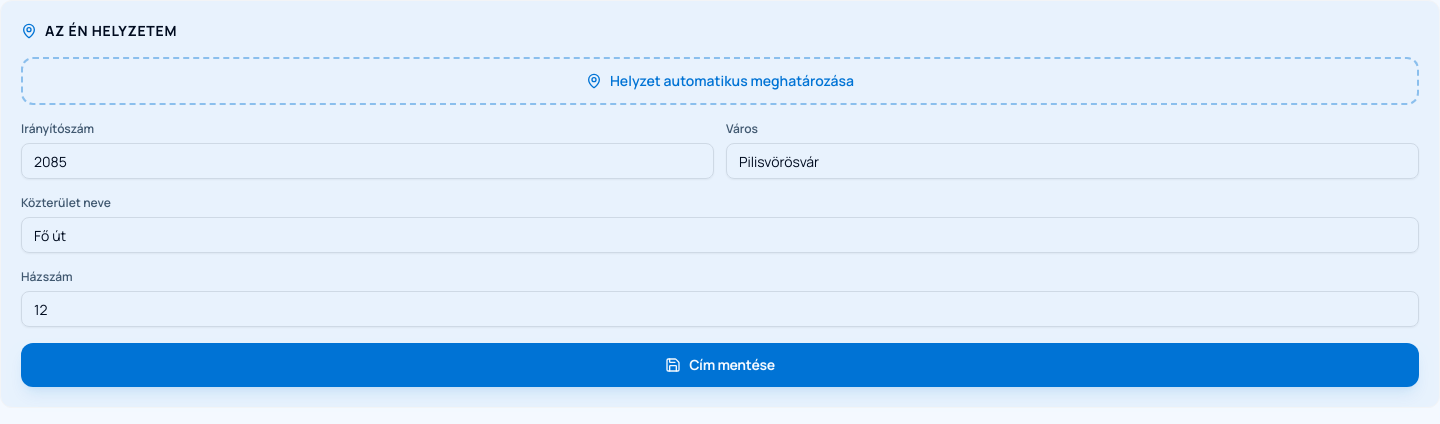
Test: ProLocationSection – address input › shows 'Helyzet rögzítve' after save address succeeds
Expected: the field labelled "Város" holds "Pilisvörösvár", [726,143,1419,179]
Click the button "Cím mentése".
click(720, 365)  # box [21,343,1419,387]
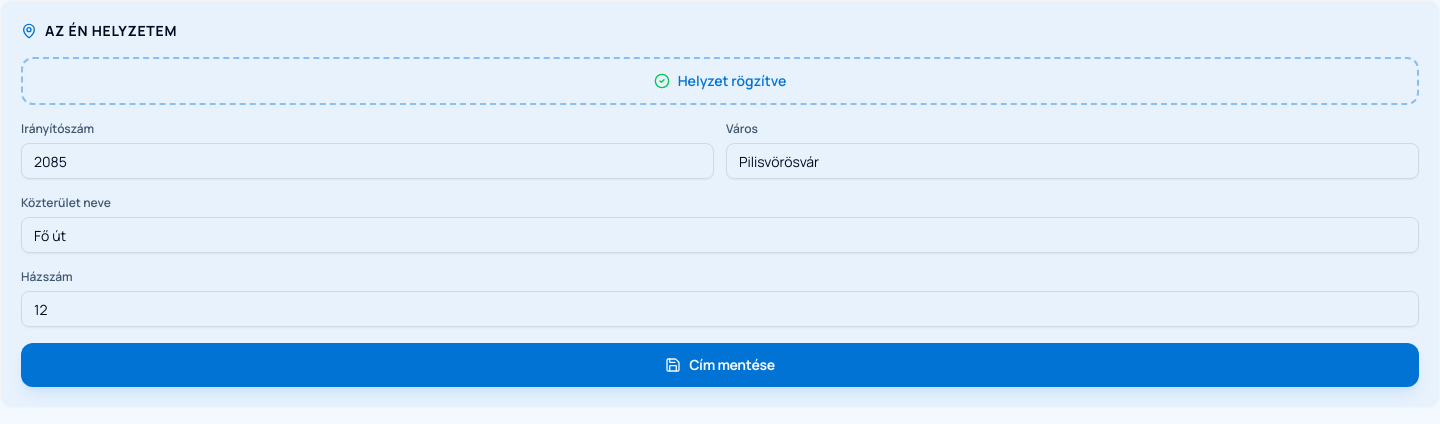
Expected: the button "Helyzet rögzítve" is shown, [21,57,1419,105]
